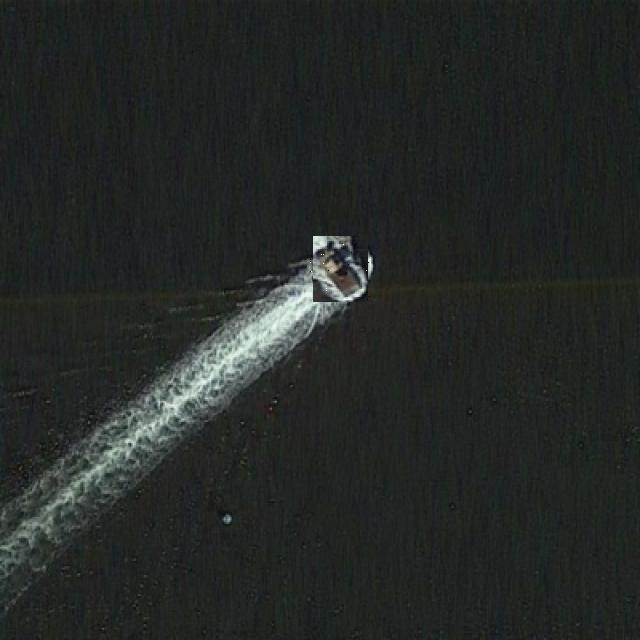boat: (310, 238, 370, 300)
